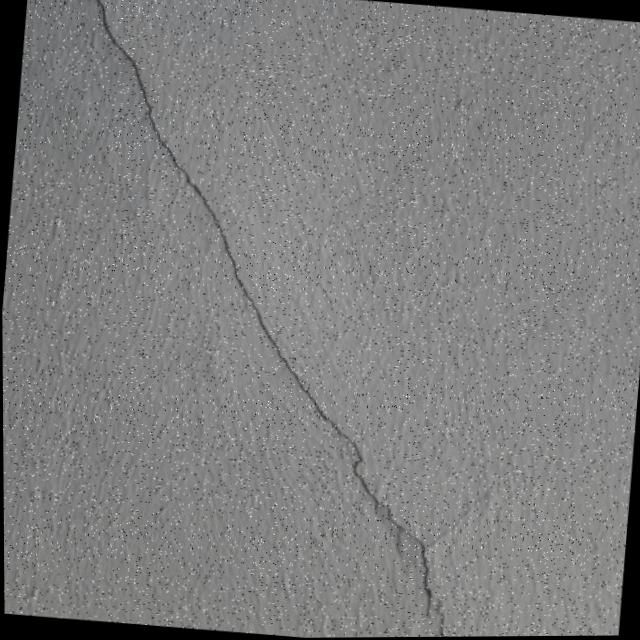Crack: (15, 0, 526, 640)
